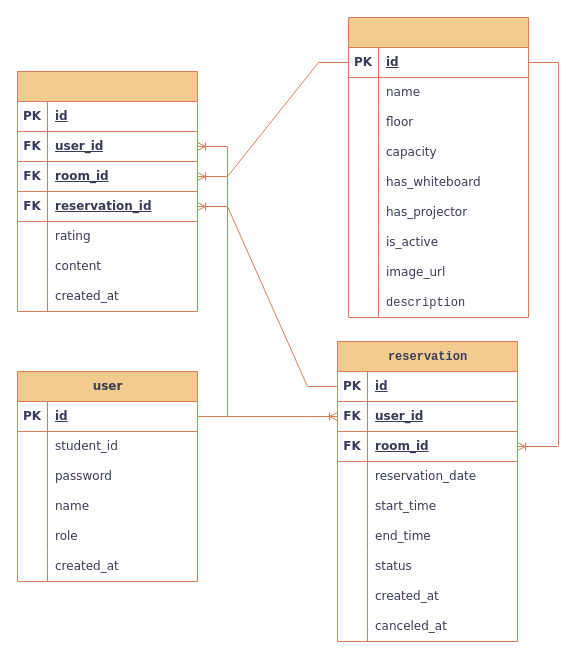
Image size: 584x659. Some labels were removed from this diagram. Here are the shapes that lost their labels. From the top down, the box of each, then its label:
(348, 16, 528, 318): room
(16, 70, 198, 312): review
